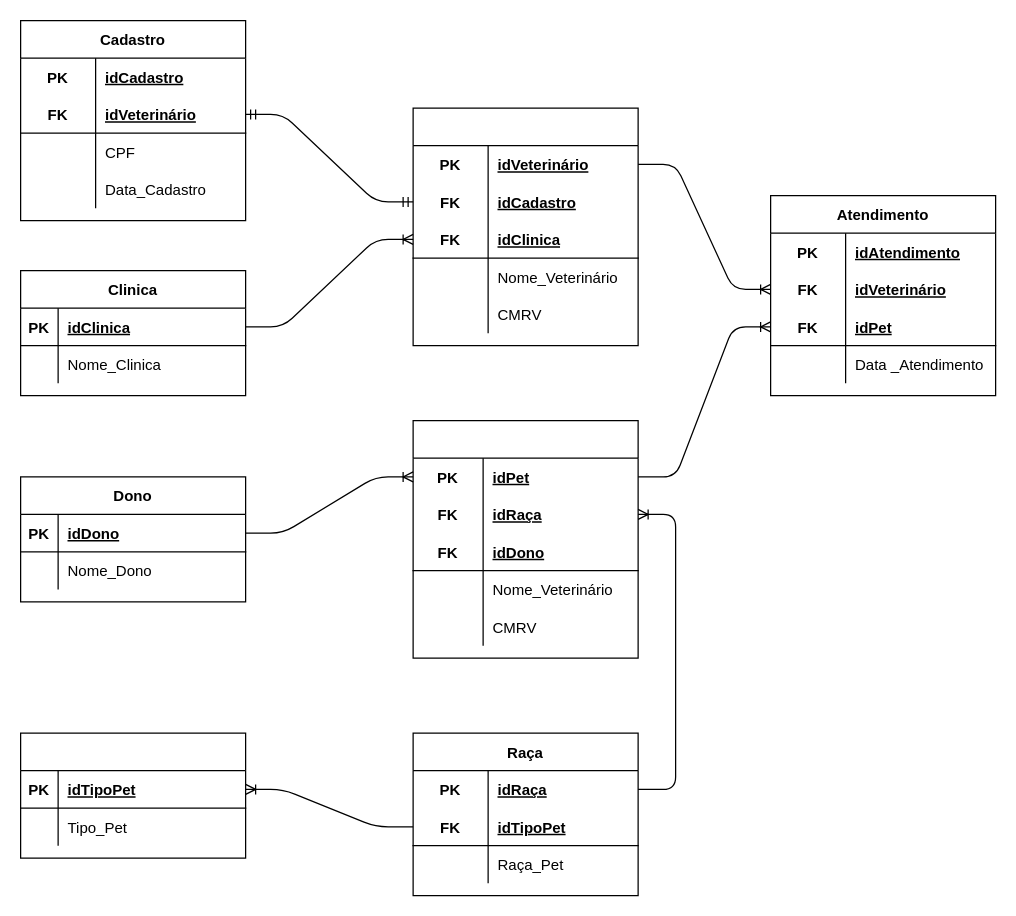
Some shapes in this 1016 by 916 pixel diagram are drawn without their labels. The box of each missing label's shape, as (x1, y1, x2, y2) in pixels:
Pets: (412, 419, 638, 658)
Tipo de pet: (19, 732, 246, 858)
Veterinários: (412, 107, 638, 346)
